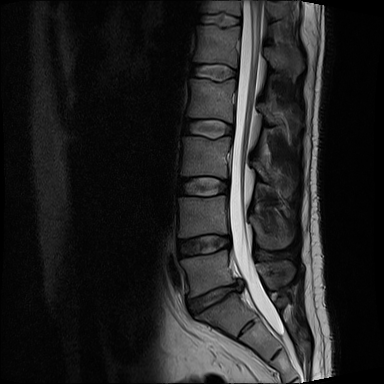Lumbar Disc Bulge (LDB): (178, 274, 251, 323), (175, 227, 237, 264)
Normal IVD: (170, 170, 233, 200), (176, 114, 240, 142), (182, 57, 243, 85), (192, 10, 243, 32)
Spinal Stenosis (SS): (227, 270, 251, 304)
